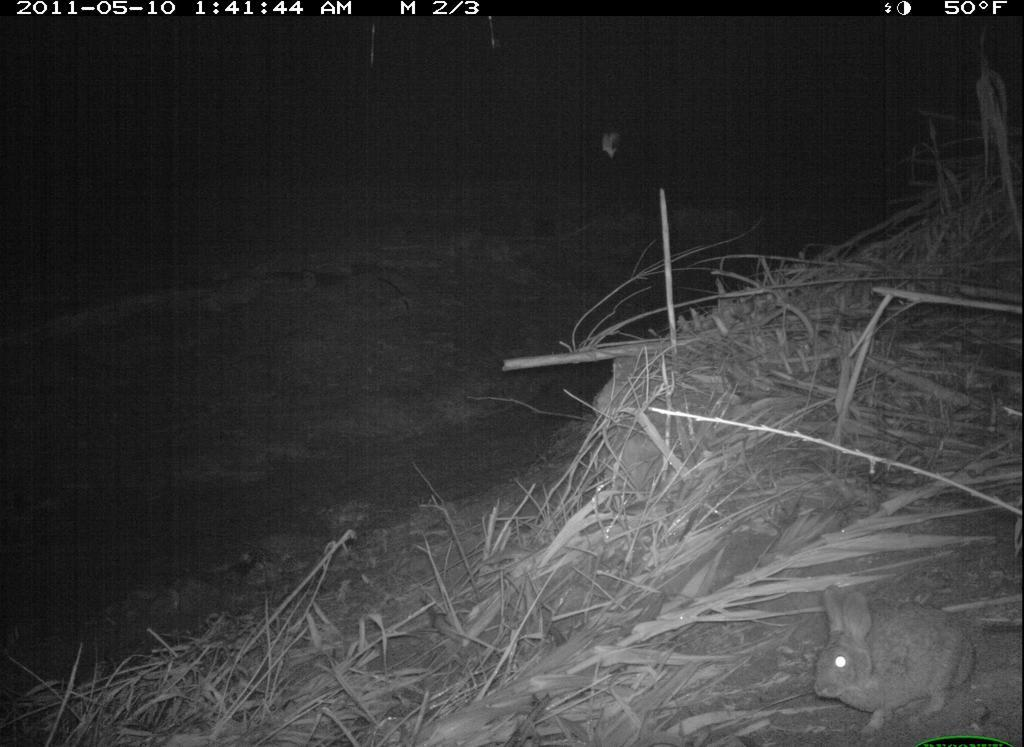rabbit: (809, 568, 985, 731)
